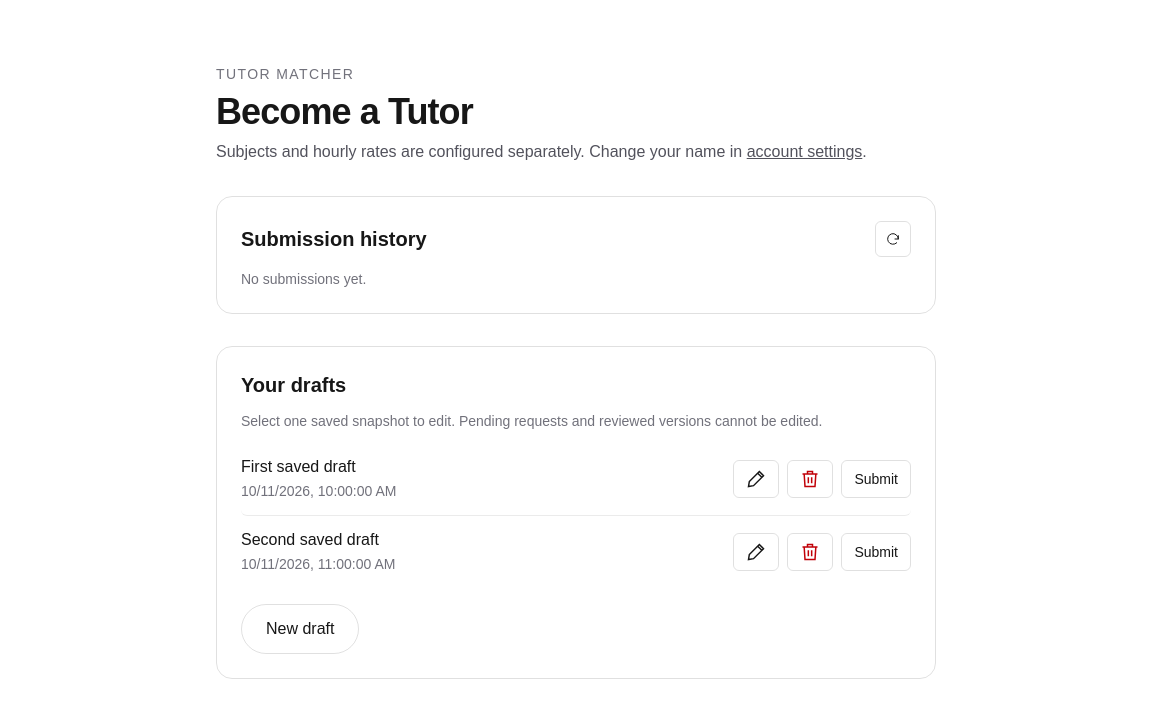
retains the saved draft when row deletion fails
Click the button named "Trash draft 1: First saved draft".
click(810, 479)  # box left=787, top=460, right=833, bottom=498
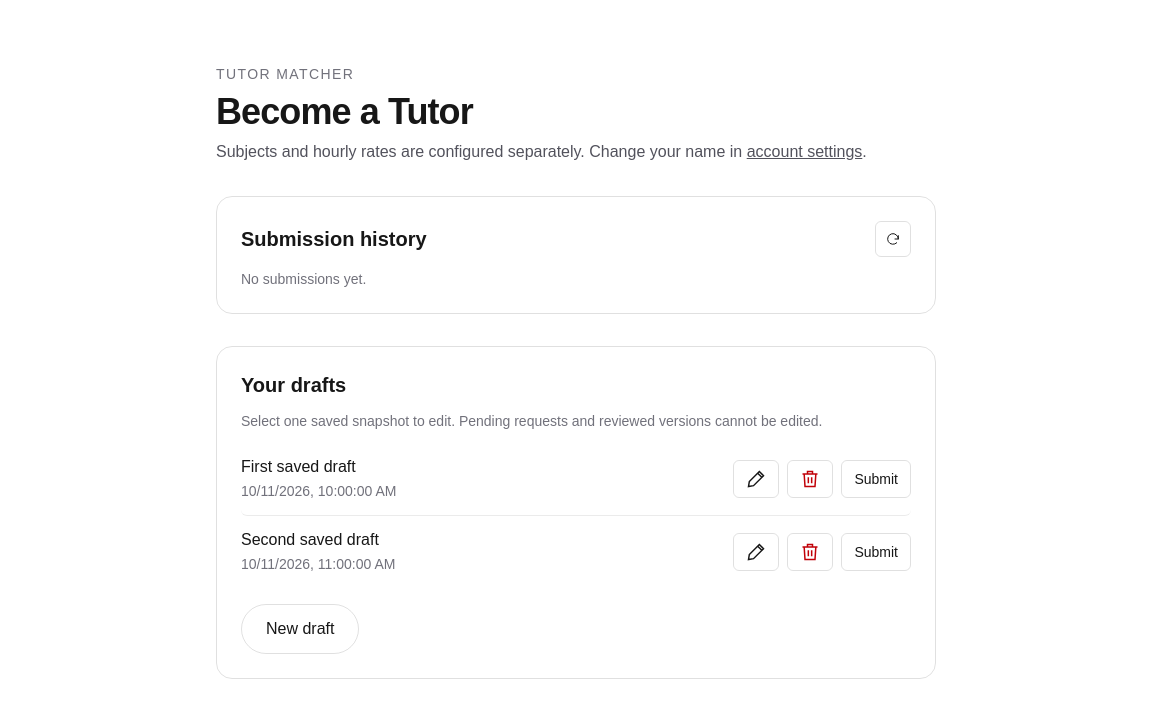
Click the button named "Edit draft 1: First saved draft".
click(756, 479)  # box left=733, top=460, right=779, bottom=498
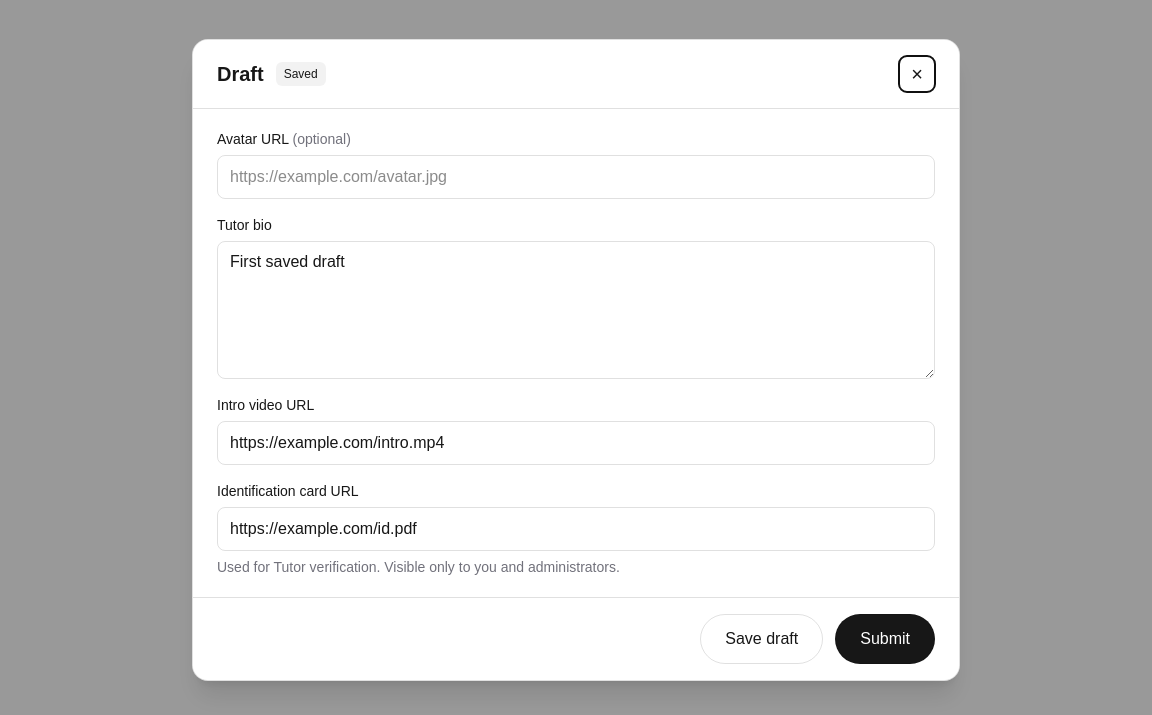
Now the text box labelled "Tutor bio" holds "First saved draft", box left=217, top=241, right=935, bottom=379
